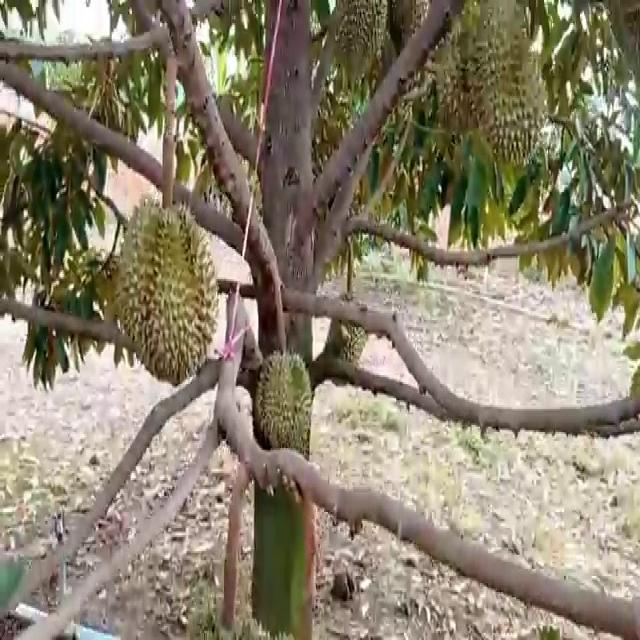durian: (110, 186, 222, 388), (456, 20, 551, 172), (250, 340, 314, 466), (329, 0, 389, 88), (322, 287, 371, 389)
